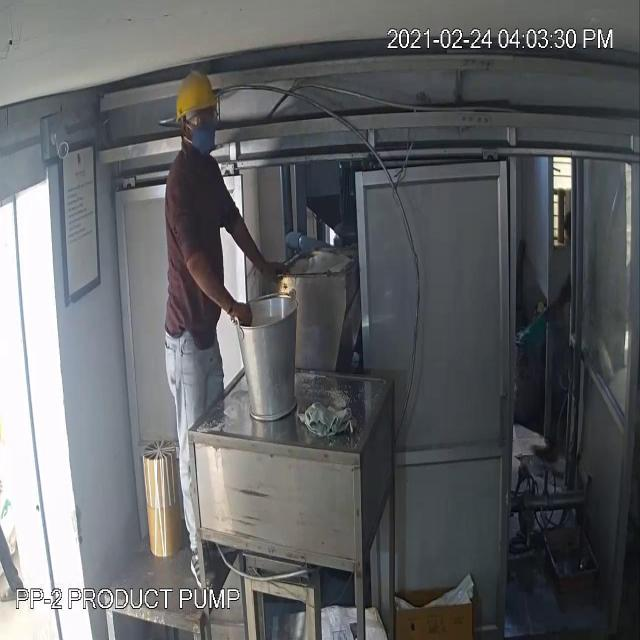helmet: (171, 60, 222, 124)
